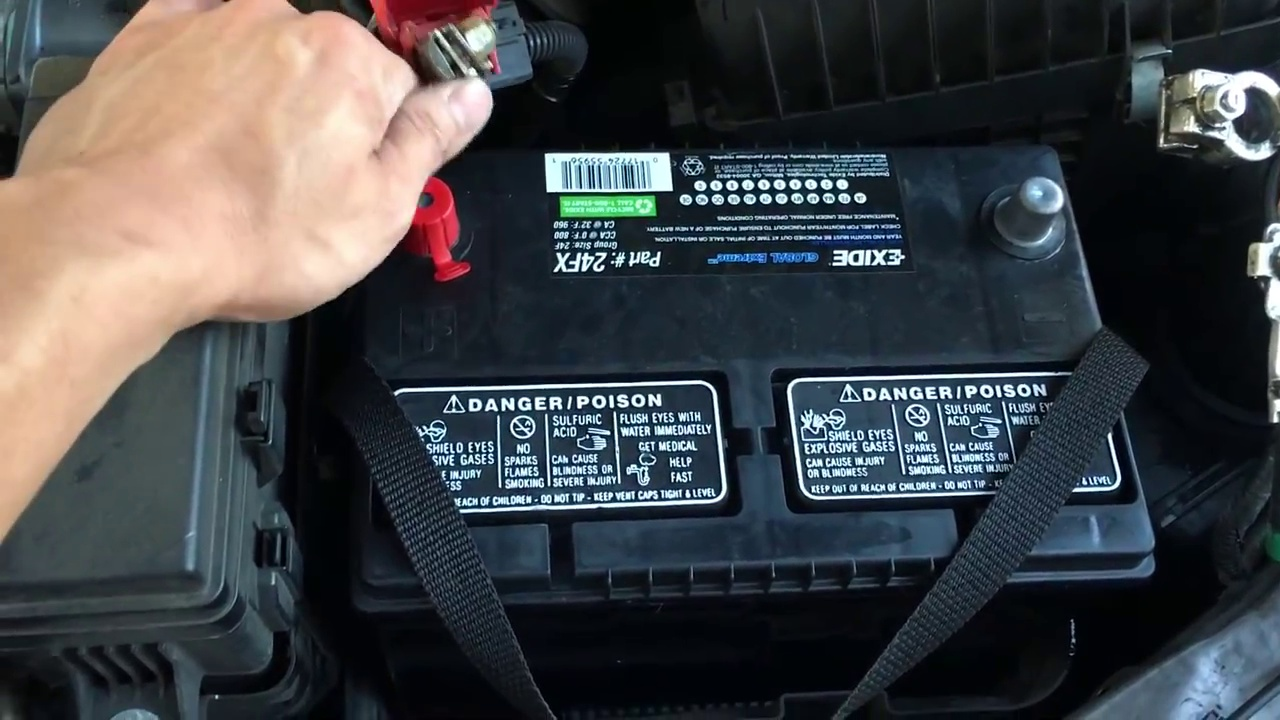battery: (342, 125, 1164, 565)
neg_disconnected: (951, 158, 1127, 283)
pos_disconnected: (328, 7, 540, 276)
pos_touched: (276, 10, 490, 288)
